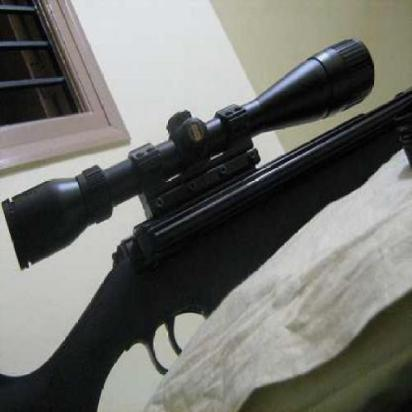Gun: (0, 37, 411, 410)
